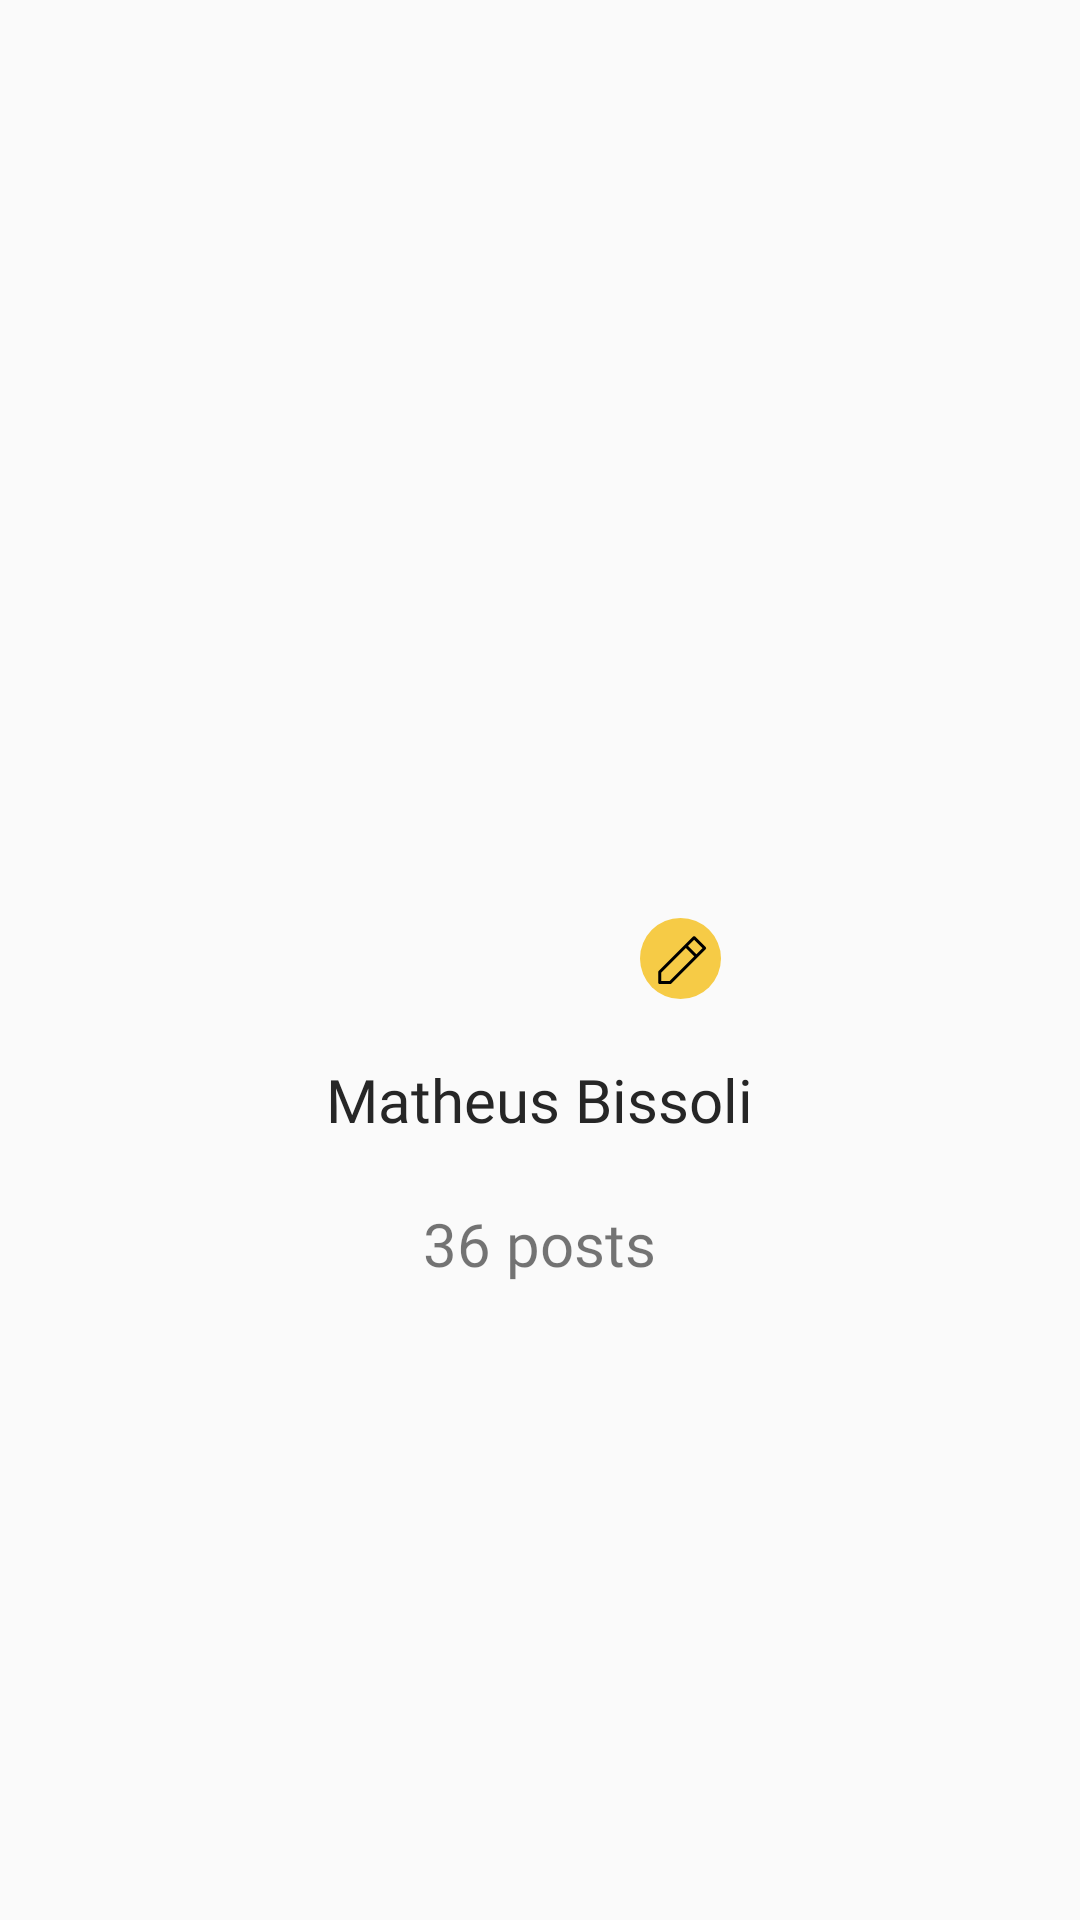

Named icons in this screenshot (1080px×1920px) and their centers, point (x, y):
pencil: point (680, 958)
